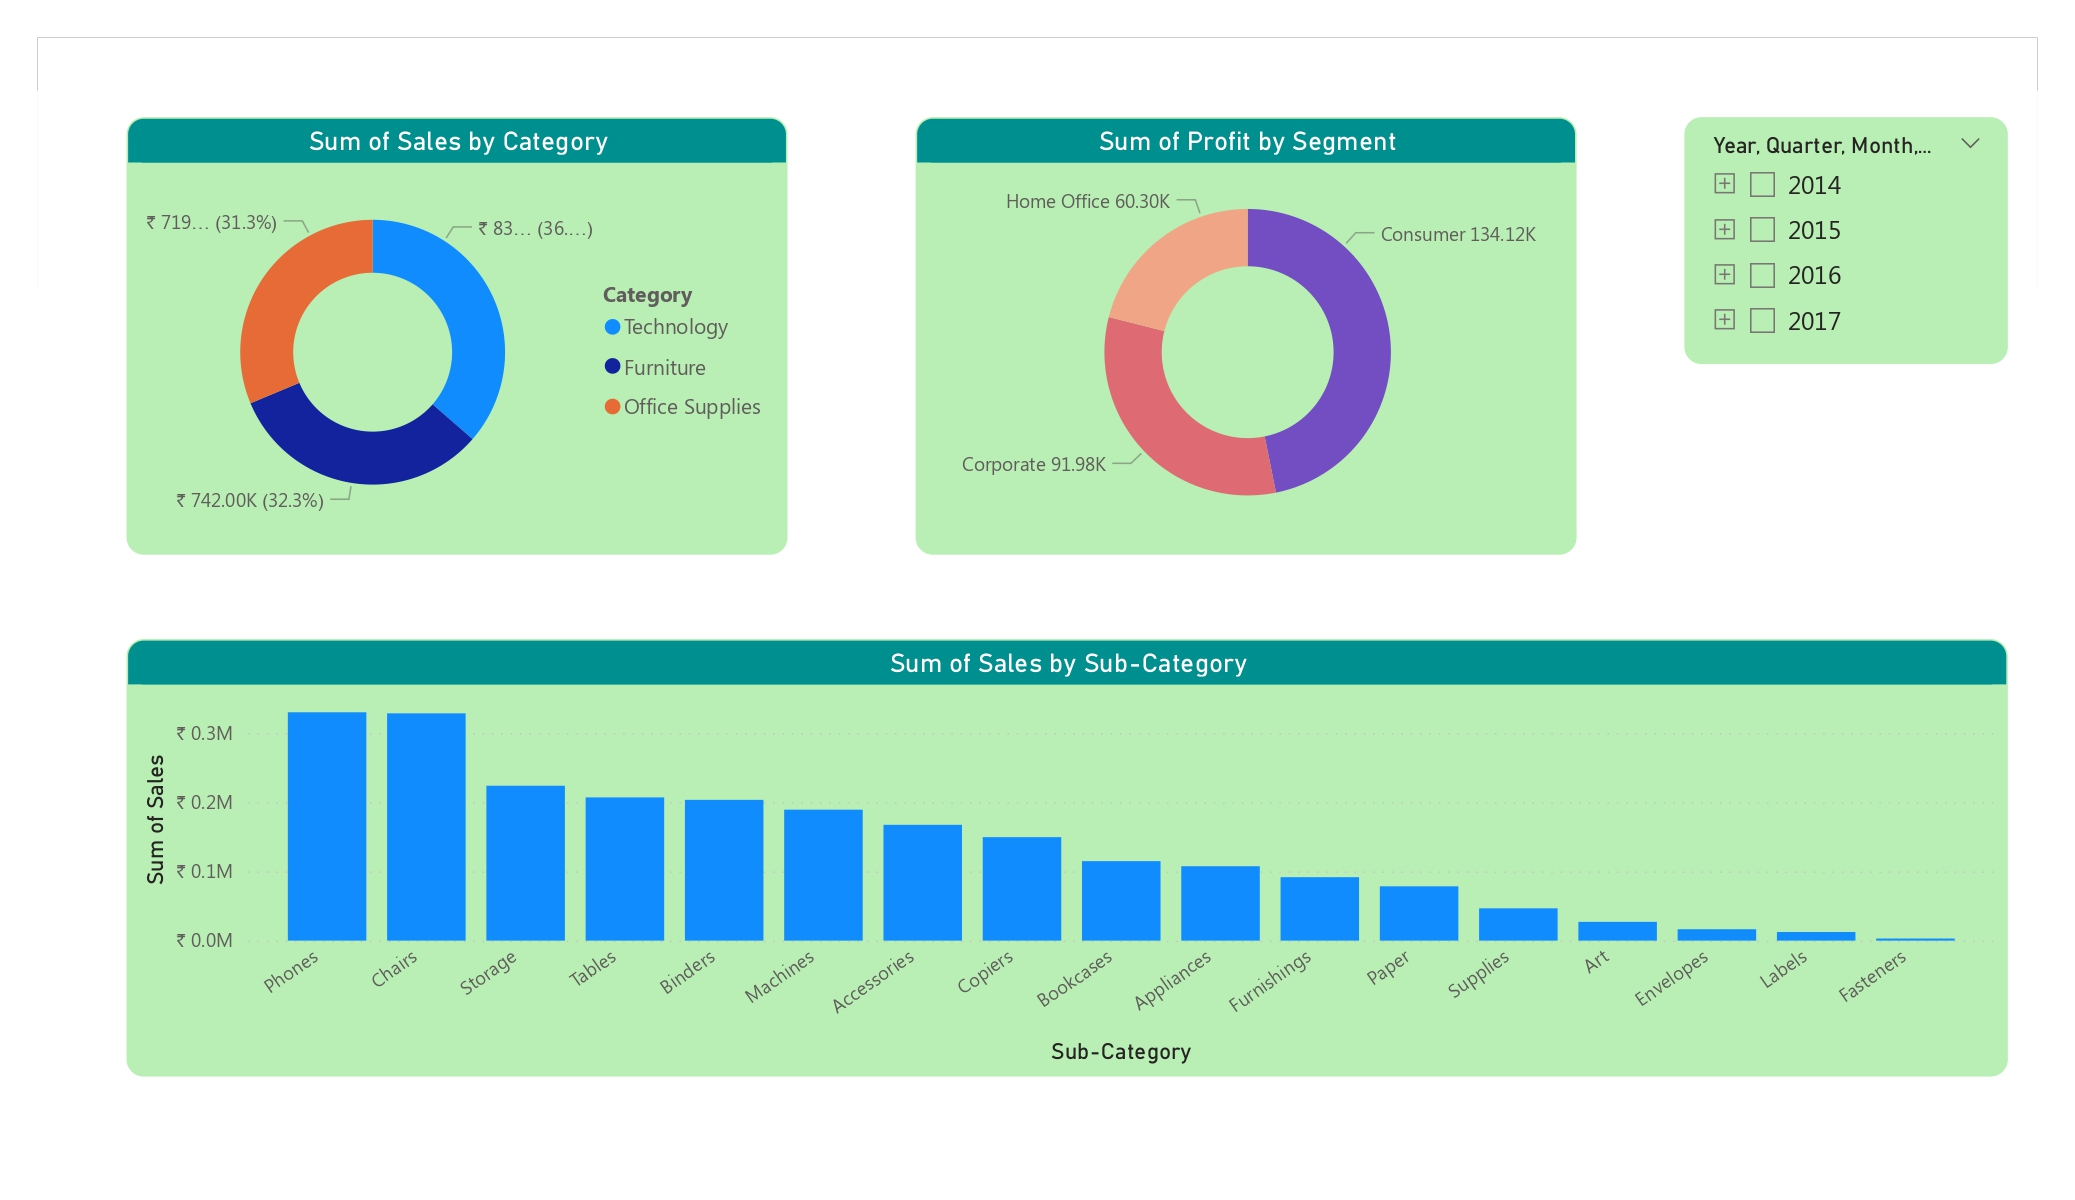

The page's visual inventory and layout, read from the dashboard file:
{"tool":"powerbi","page":{"name":"Page 4","canvas":[1280,720],"ordinal":3},"visuals":[{"type":"donutChart","fields":{"Category":["Orders.Category"],"Y":["Sum(Orders.Sales)"]},"box":[56.9,51.1,423,280],"z":0},{"type":"columnChart","fields":{"Category":["Orders.Sub-Category"],"Y":["Sum(Orders.Sales)"]},"box":[56.9,384.6,1203.8,280],"z":1000},{"type":"slicer","fields":{"Values":["Orders.Order Date.Variation.Date Hierarchy.Year","Orders.Order Date.Variation.Date Hierarchy.Quarter","Orders.Order Date.Variation.Date Hierarchy.Month","Orders.Order Date.Variation.Date Hierarchy.Day"]},"box":[1053.9,51.1,206.8,158],"z":2000},{"type":"donutChart","fields":{"Y":["Sum(Orders.Profit)"],"Category":["Orders.Segment"]},"box":[562.4,51.1,423,280],"z":3000}]}

Visuals, with their boxes on the page's 1280x720 design canvas (x1, y1, x2, y2). These are canvas units, not pixel positions in the 2075x1200 screenshot, which may show the page scaled, cropped or inside an application window:
donutChart - Orders.Category x Sum(Orders.Sales): detection(57, 51, 480, 331)
columnChart - Orders.Sub-Category x Sum(Orders.Sales): detection(57, 385, 1261, 665)
slicer - Orders.Order Date.Variation.Date Hierarchy.Year x Orders.Order Date.Variation.Date Hierarchy.Quarter: detection(1054, 51, 1261, 209)
donutChart - Sum(Orders.Profit) x Orders.Segment: detection(562, 51, 985, 331)
